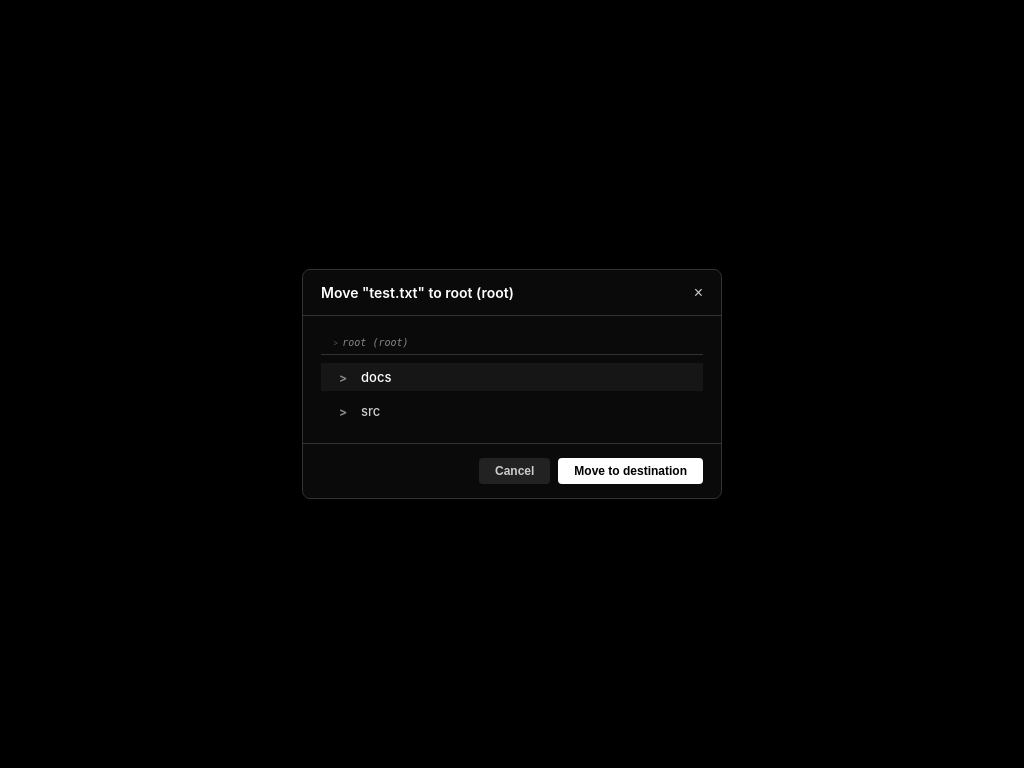
Test: DirectoryPicker › navigates into a directory on click
The image size is (1024, 768).
Press the mouse on the text "docs": (376,377) [361,369,391,385]
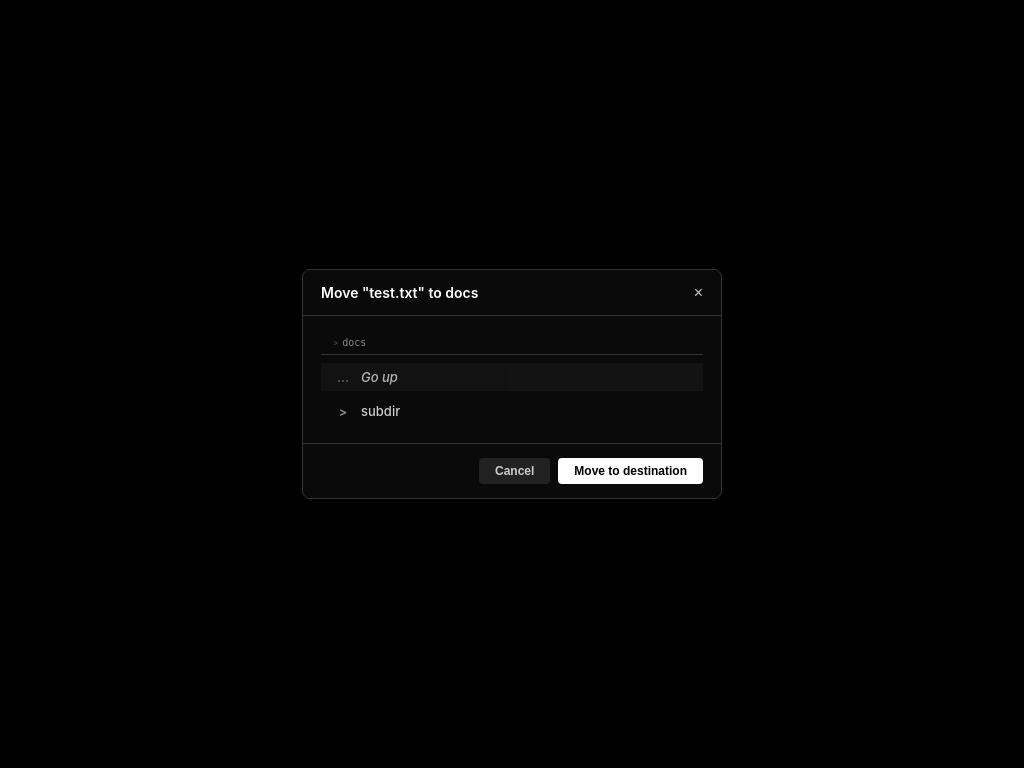
Check: the text "subdir" is shown, box [361,403,400,419]
